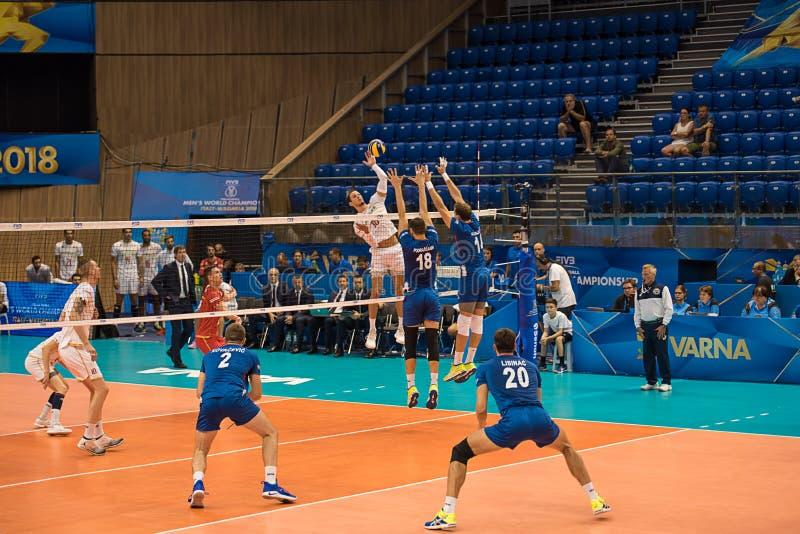ballon_volley: (368, 138, 386, 158)
